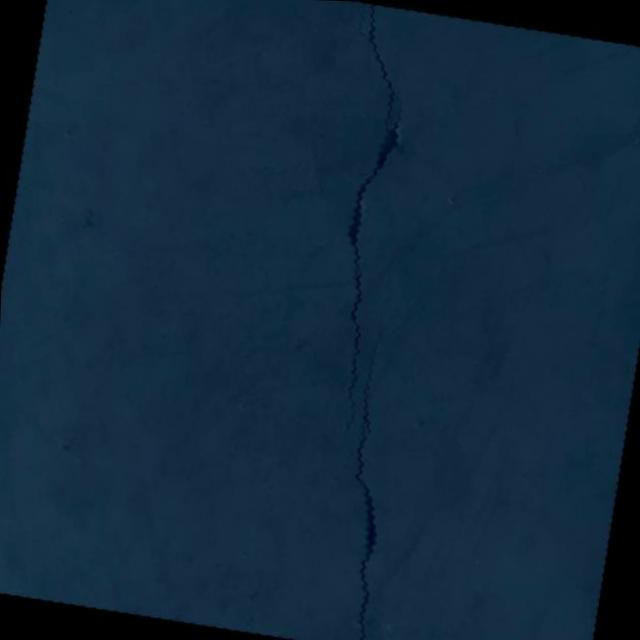crack: (170, 0, 467, 640)
